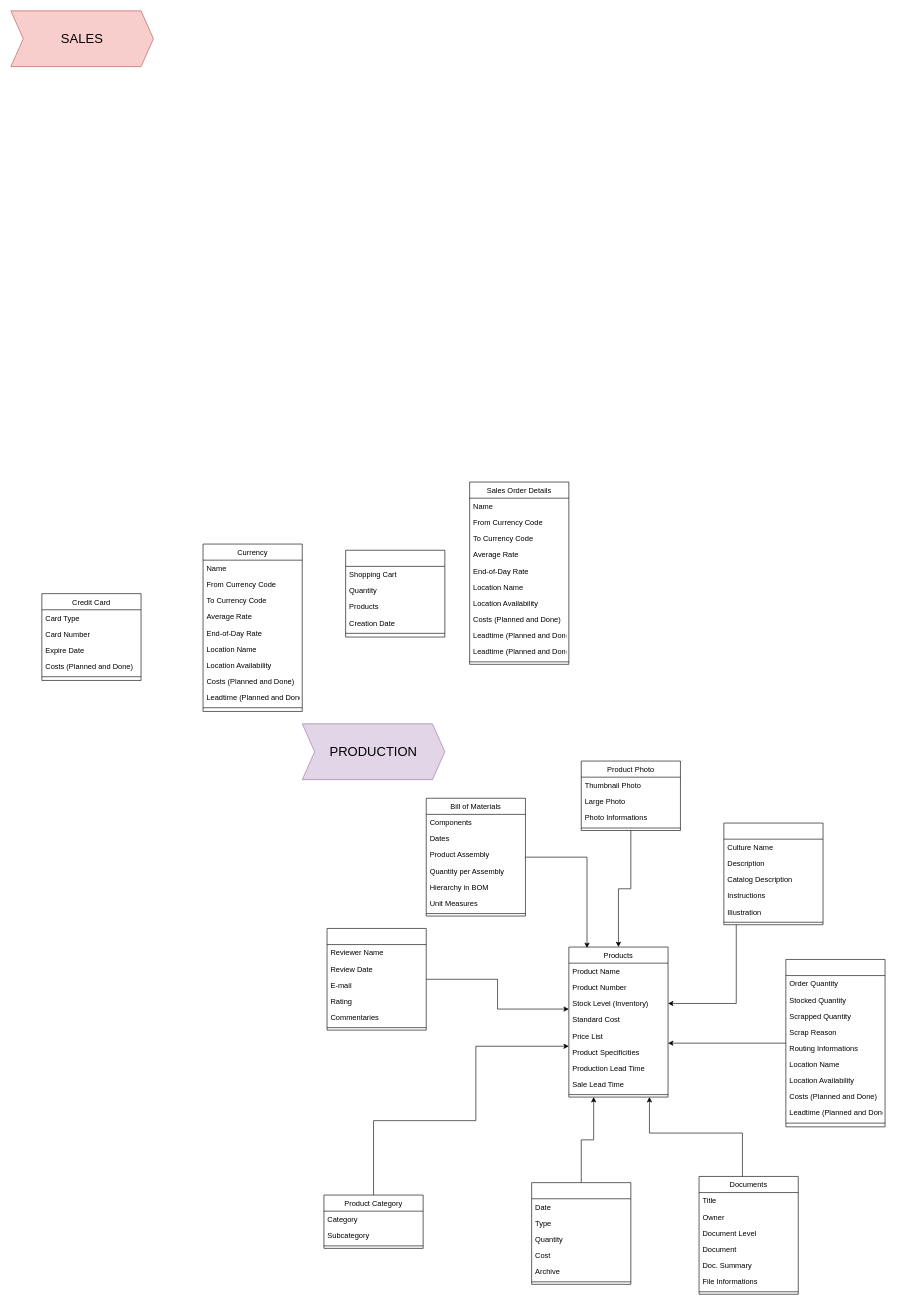
Image size: 899x1305. Some labels were removed from this diagram. Here are the shapes that lost their labels. From the top down, the box of each, then its label:
(345, 550, 445, 637): Item of Shopping Cart
(723, 822, 823, 925): Product Description
(326, 928, 426, 1030): Product Review
(785, 959, 885, 1127): Work Order
(531, 1182, 631, 1284): Transactions
